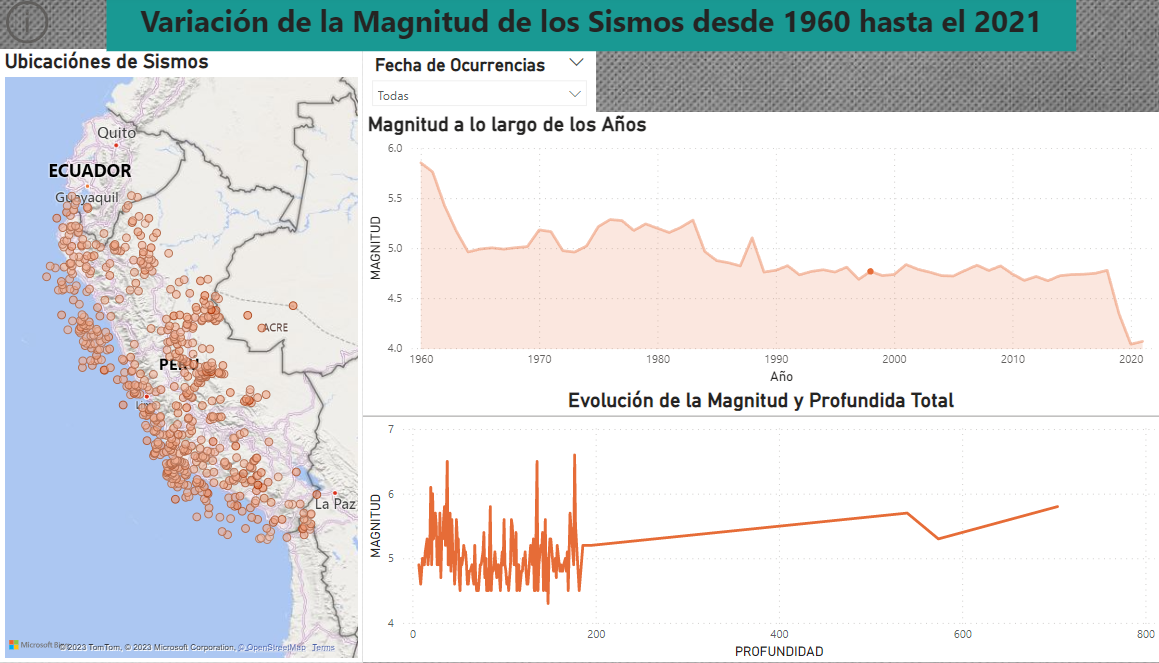

What the dashboard file says about the page in this screenshot:
{"tool":"powerbi","page":{"name":"PANEL SISMO","canvas":[1280,720],"ordinal":1},"visuals":[{"type":"map","title":"Ubicaciónes de Sismos","fields":{"Y":["Catalogo1960_2021_limpiado.LATITUD"],"X":["Catalogo1960_2021_limpiado.LONGITUD"]},"box":[0,58.4,391.4,662.1],"z":0},{"type":"slicer","fields":{"Values":["Catalogo1960_2021_limpiado.FECHA_UTC.Variación.Jerarquía de fechas.Año","Catalogo1960_2021_limpiado.FECHA_UTC.Variación.Jerarquía de fechas.Mes","Catalogo1960_2021_limpiado.FECHA_UTC.Variación.Jerarquía de fechas.Día"]},"box":[391.4,58.4,251.2,68.2],"z":1000},{"type":"lineChart","title":"Evolución de la Magnitud y Profundida Total ","fields":{"Y":["Max(Catalogo1960_2021_limpiado.MAGNITUD)"],"Category":["Catalogo1960_2021_limpiado.PROFUNDIDAD"]},"box":[391.4,424.5,858.7,296],"z":2000},{"type":"actionButton","box":[0,0,77.5,58.6],"z":3000},{"type":"textbox","box":[114.9,0,1045.7,60.4],"z":4000},{"type":"areaChart","title":"Magnitud a lo largo de los Años","fields":{"Y":["Avg(Catalogo1960_2021_limpiado.MAGNITUD)"],"Category":["Catalogo1960_2021_limpiado.FECHA_UTC.Variación.Jerarquía de fechas.Año"]},"box":[391.4,126.6,858.7,297.9],"z":6000}]}

Visuals, with their boxes in screenshot pixels (x1, y1, x2, y2), scaled from the page's 1280x720 canvas onto the 1159x663 screenshot:
"Ubicaciónes de Sismos" map: 0, 54, 354, 662
slicer - Catalogo1960_2021_limpiado.FECHA_UTC.Variación.Jerarquía de fechas.Año x Catalogo1960_2021_limpiado.FECHA_UTC.Variación.Jerarquía de fechas.Mes: 354, 54, 582, 117
"Evolución de la Magnitud y Profundida Total " lineChart: 354, 391, 1132, 662
actionButton: 0, 0, 70, 54
textbox: 104, 0, 1051, 56
"Magnitud a lo largo de los Años" areaChart: 354, 117, 1132, 391
